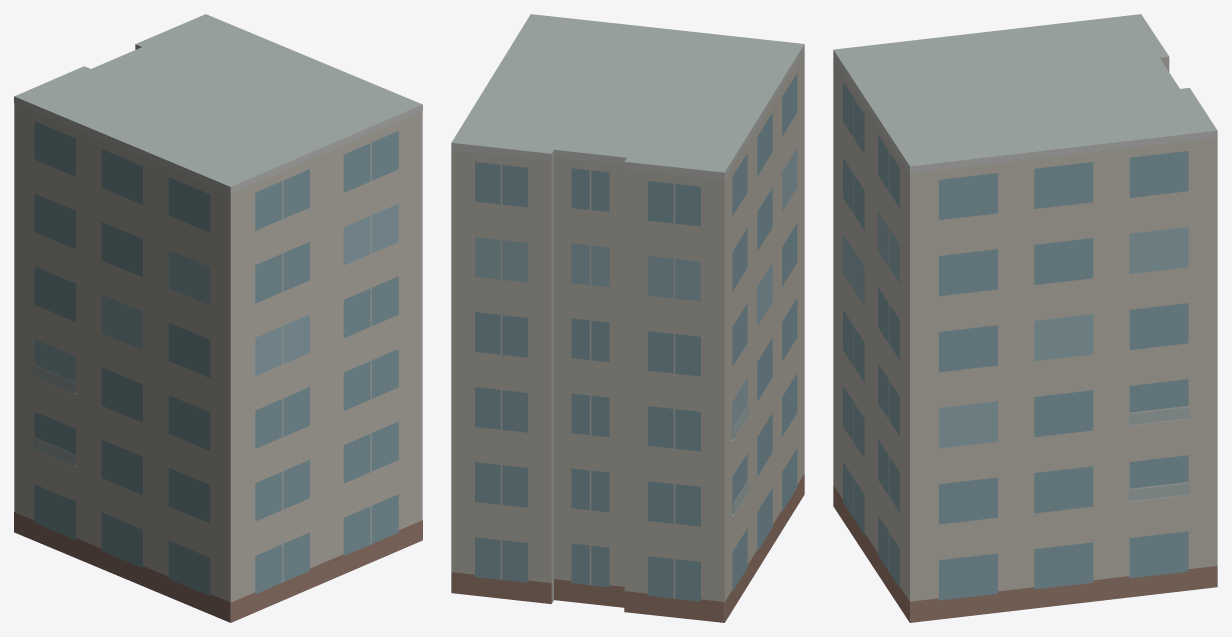
File: survey-upis-32917567.glb
The picture shows the model from 3 angles, left to right: view 1: azimuth 30°, elevation 25°; view 2: azimuth 150°, elevation 25°; view 3: azimuth 270°, elevation 25°; orthographic projection. The views are drawn at different scales.
Visible parts, largest first — view 1: survey-upis-32917567.tmp; view 2: survey-upis-32917567.tmp; view 3: survey-upis-32917567.tmp.
Part boxes in pixels (x1=…): survey-upis-32917567.tmp: x1=14, y1=14, x2=422, y2=622; survey-upis-32917567.tmp: x1=451, y1=14, x2=804, y2=622; survey-upis-32917567.tmp: x1=833, y1=14, x2=1217, y2=622.
Size of the model in its own units: 11.17 by 15.6 by 11.91.
